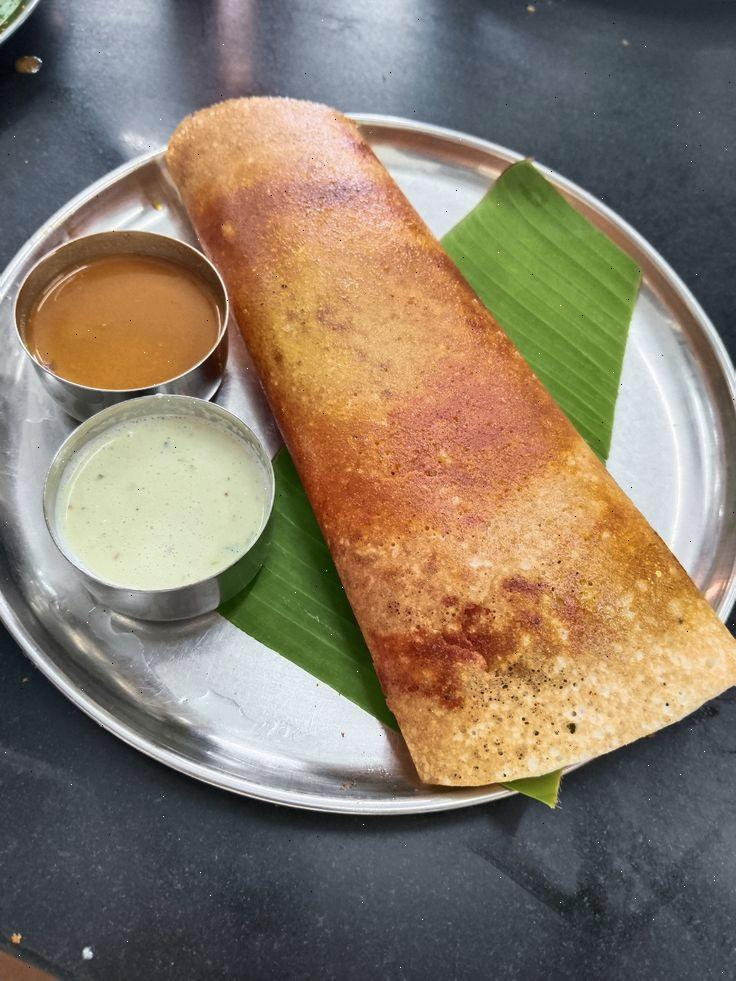dosa: (161, 103, 725, 777)
